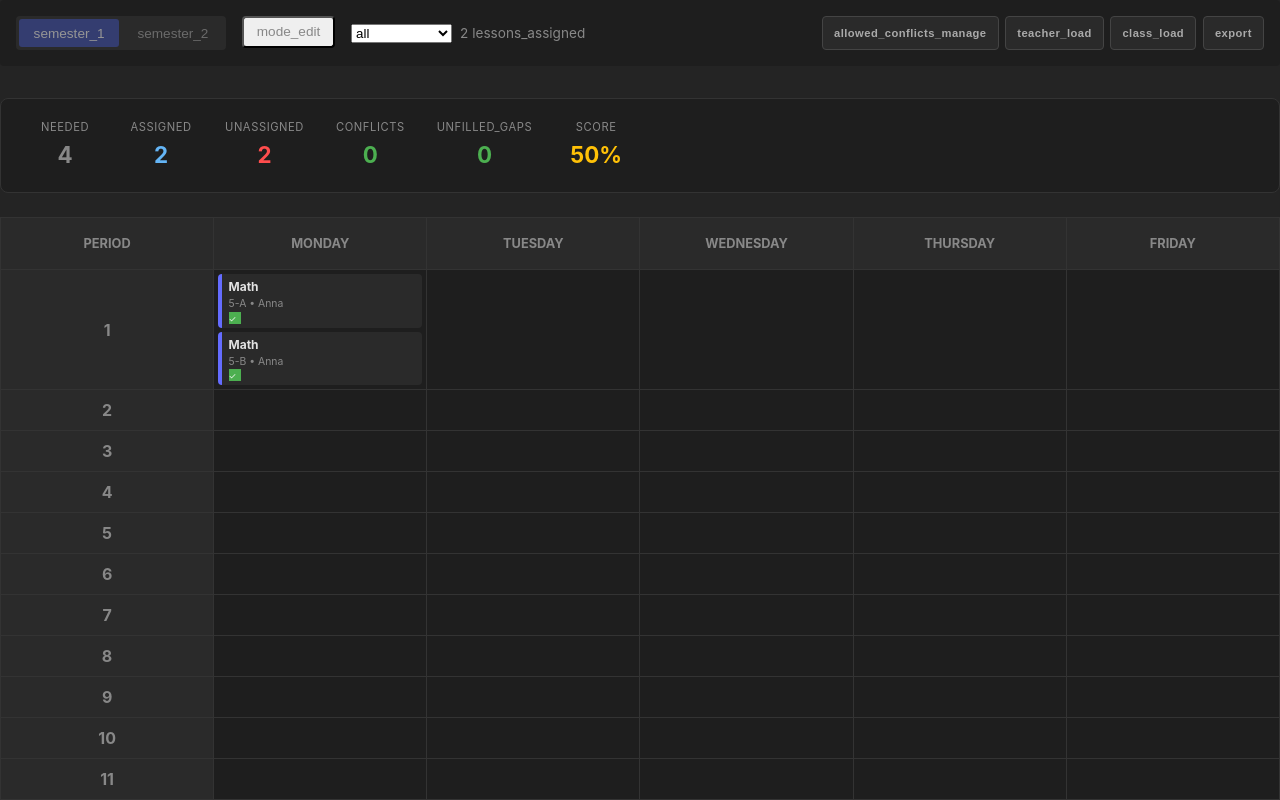
Test case: ScheduleViewer allowed conflicts (view mode) › shows a remove button for each allowed conflict in the manage modal
Click the button "allowed_conflicts_manage". click: (910, 33)
box: [822, 16, 999, 50]
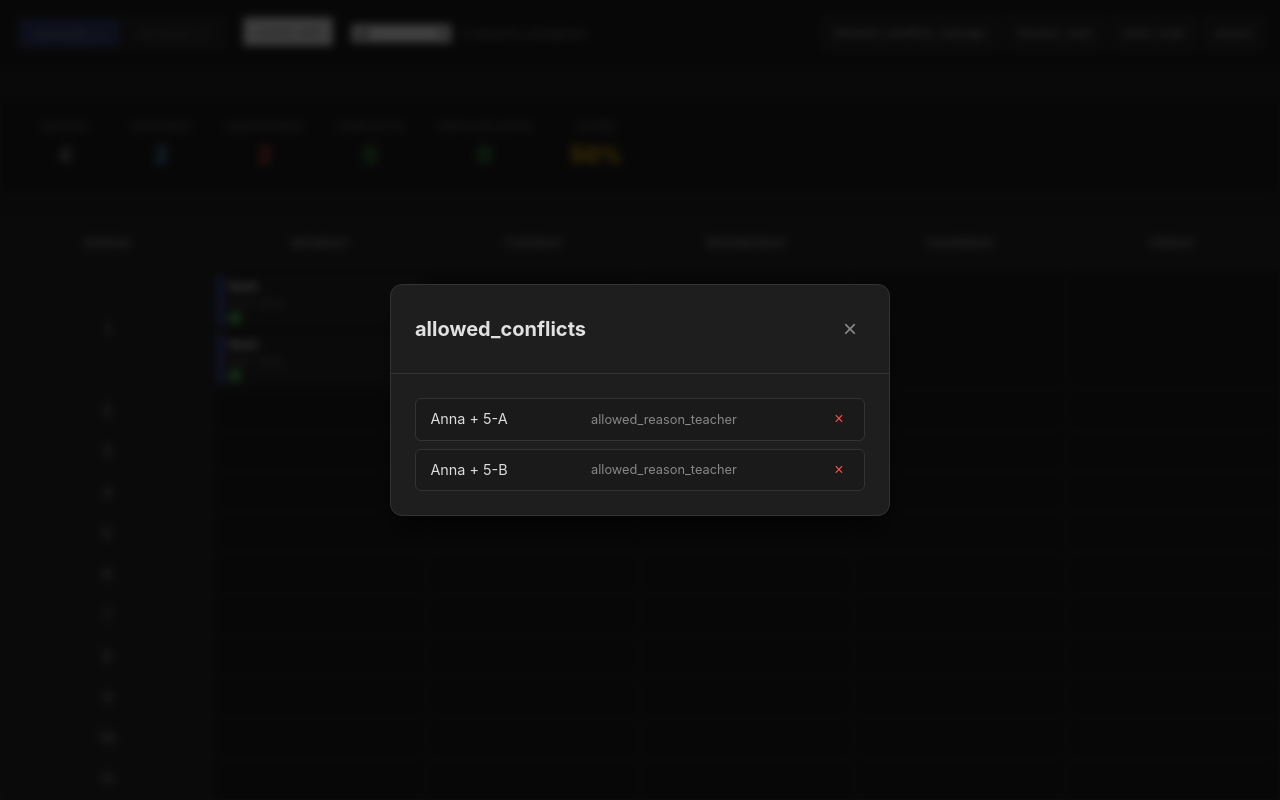
Check: the number of buttons with class "remove-allowed-btn" is 2, box [828, 410, 850, 428]; [828, 461, 850, 479]
